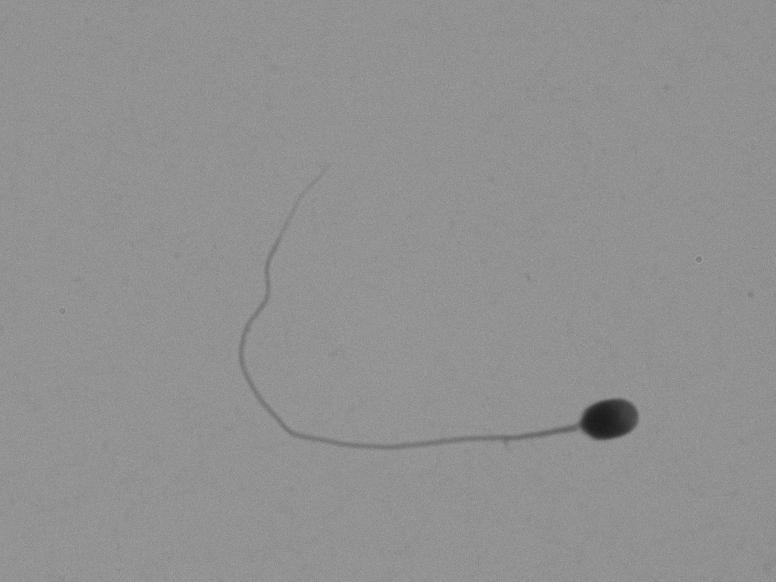Normal: (176, 231, 677, 509)
